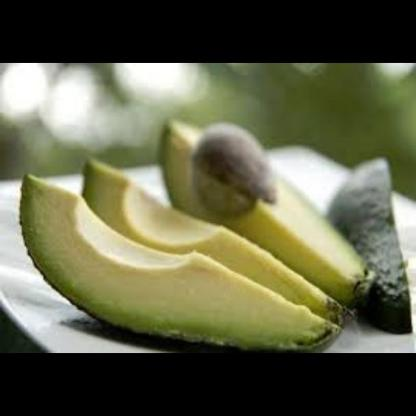avocado: (16, 121, 414, 352)
